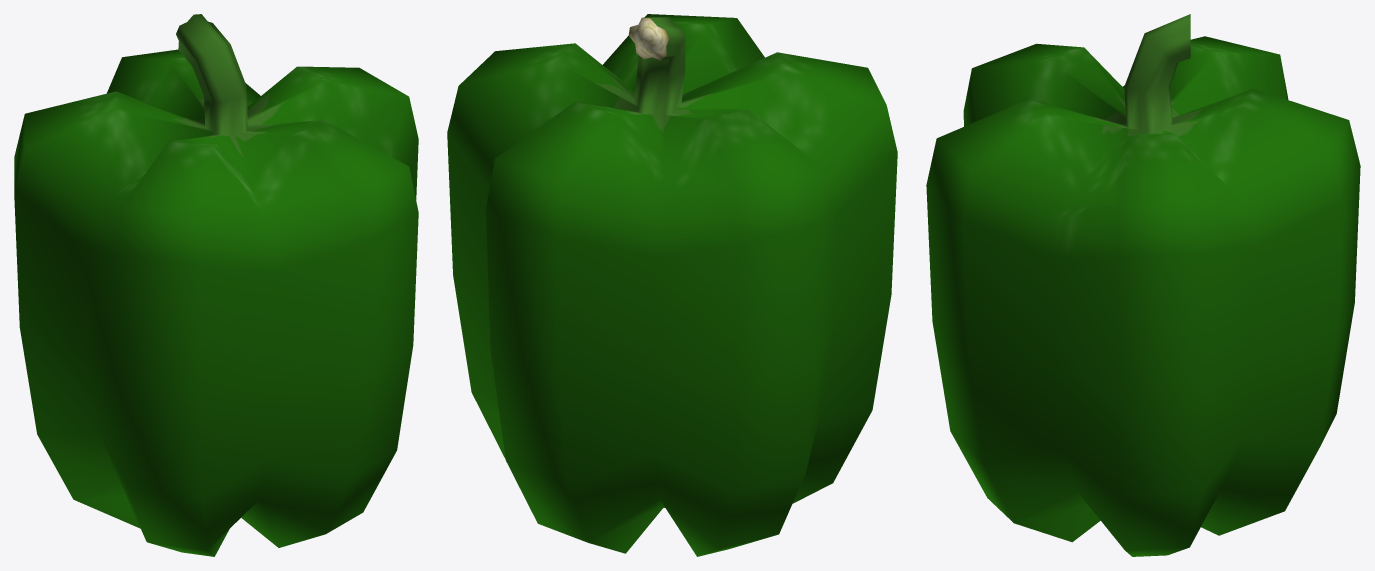
Rendered from CapsicumGreen.fbx.
3 views of the same model, side by side, from view 1: azimuth 30°, elevation 25°; view 2: azimuth 150°, elevation 25°; view 3: azimuth 270°, elevation 25° (orthographic). The views are drawn at different scales.
Visible parts, largest first — view 1: CapsicumGreen; view 2: CapsicumGreen; view 3: CapsicumGreen.
Boxes of the visible parts, x1,y1,x2,y2 form: CapsicumGreen: (14, 14, 418, 556); CapsicumGreen: (447, 14, 897, 556); CapsicumGreen: (926, 14, 1360, 556).
Bounding box in the file's own units: 15.29 × 19.92 × 15.54.
